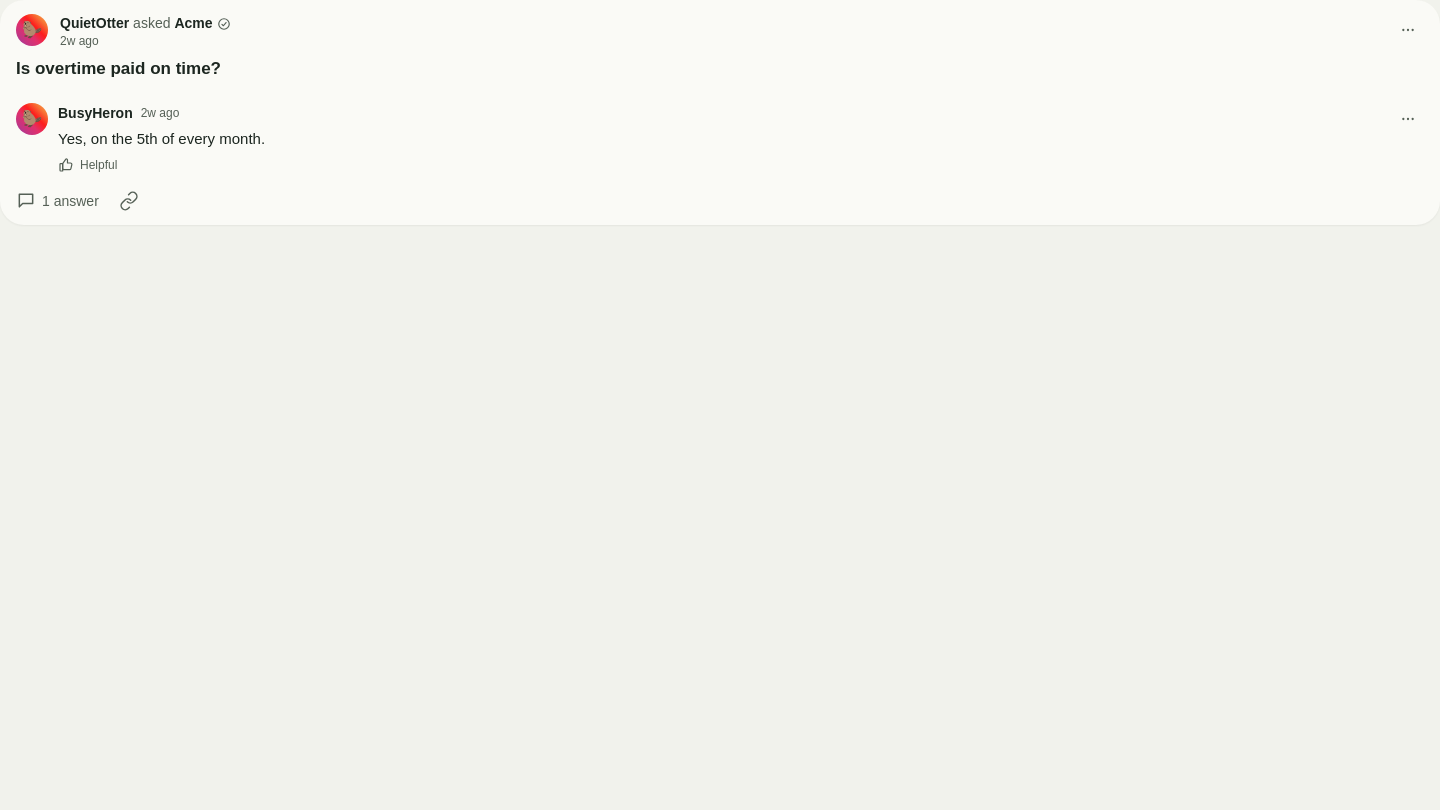
Test: someone else's answer: Report needs a reason, sends it, and reads Reported afterwards
Click the button named "Answer options" at [1408, 119], box [1392,103,1424,135]
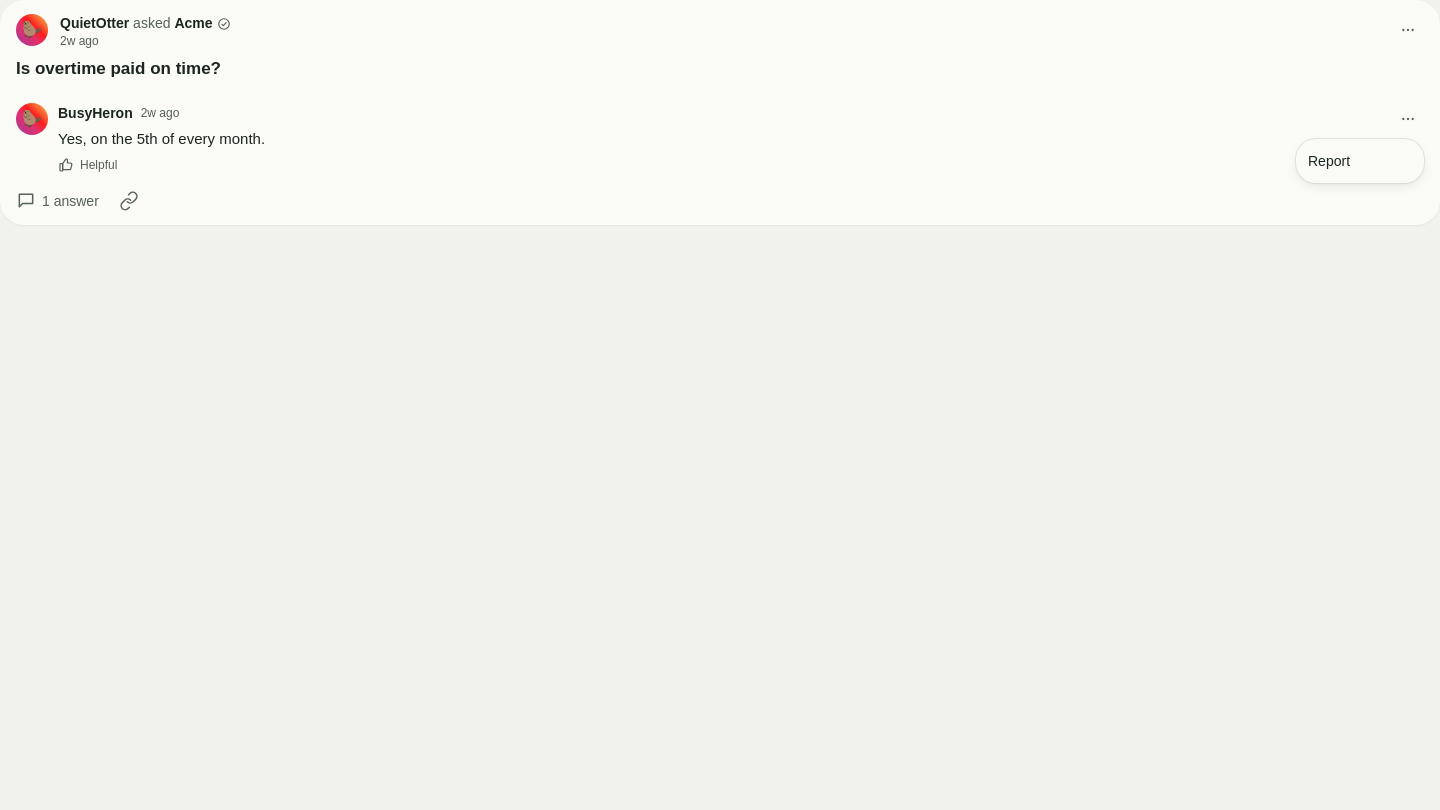
Click the menu item "Report" at [1360, 161], box [1296,143,1424,179]
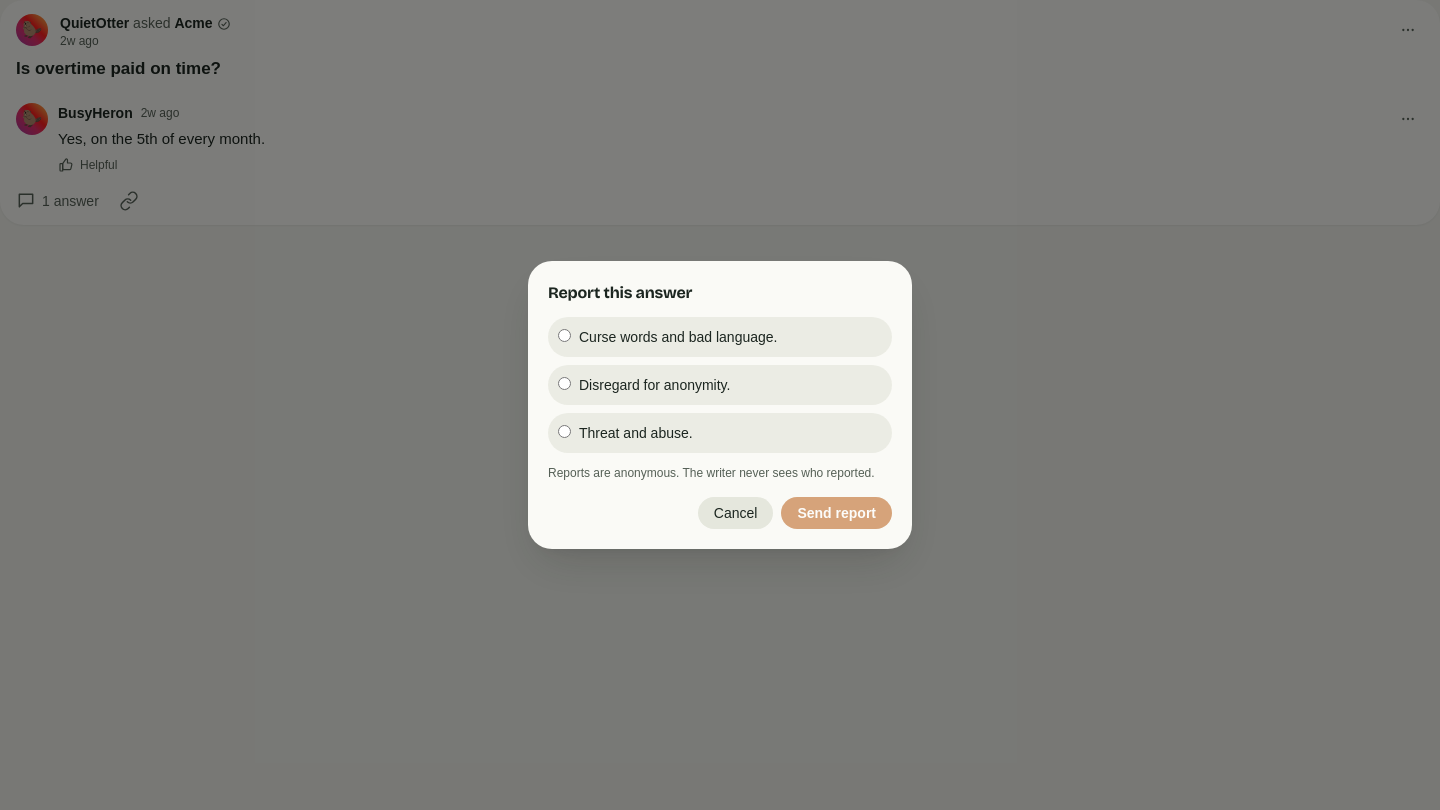
Now the button "Send report" is disabled, box [781,497,892,529]
Click the radio button labelled "Threat and abuse." at [564, 432], box [558,425,571,438]
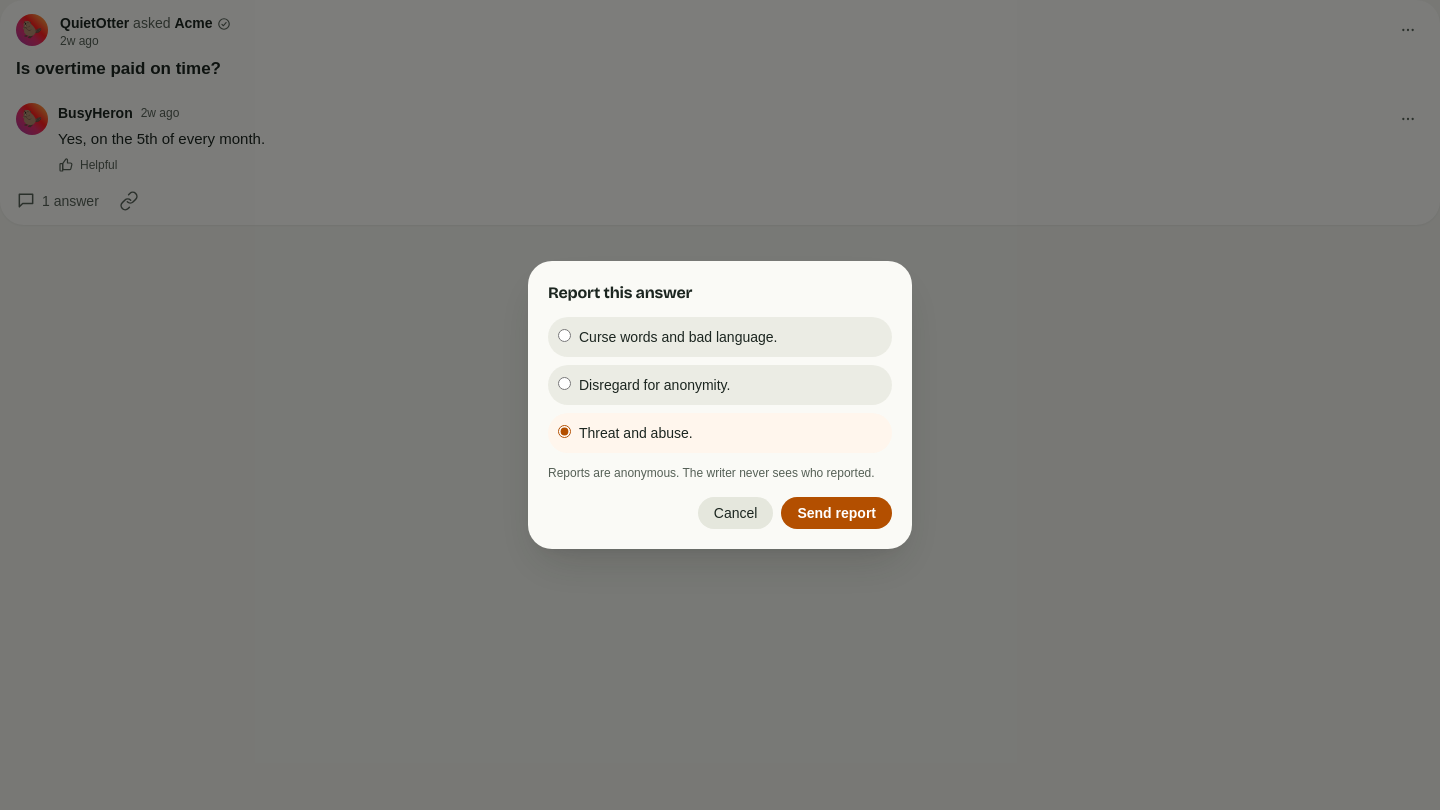
Click the button "Send report" at [837, 513], box [781,497,892,529]
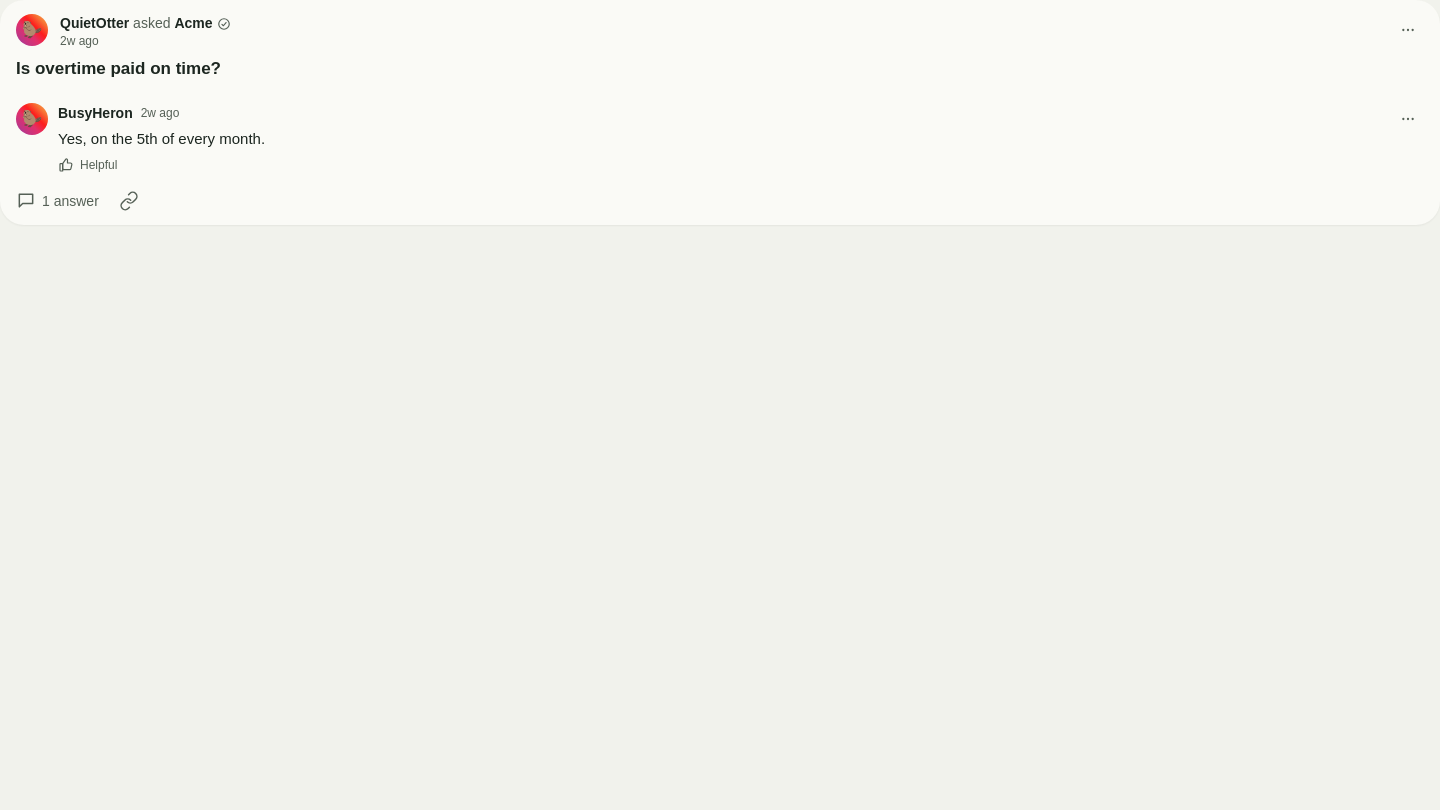
Now the dialog is gone
Click the button named "Answer options" at [1408, 119], box [1392,103,1424,135]
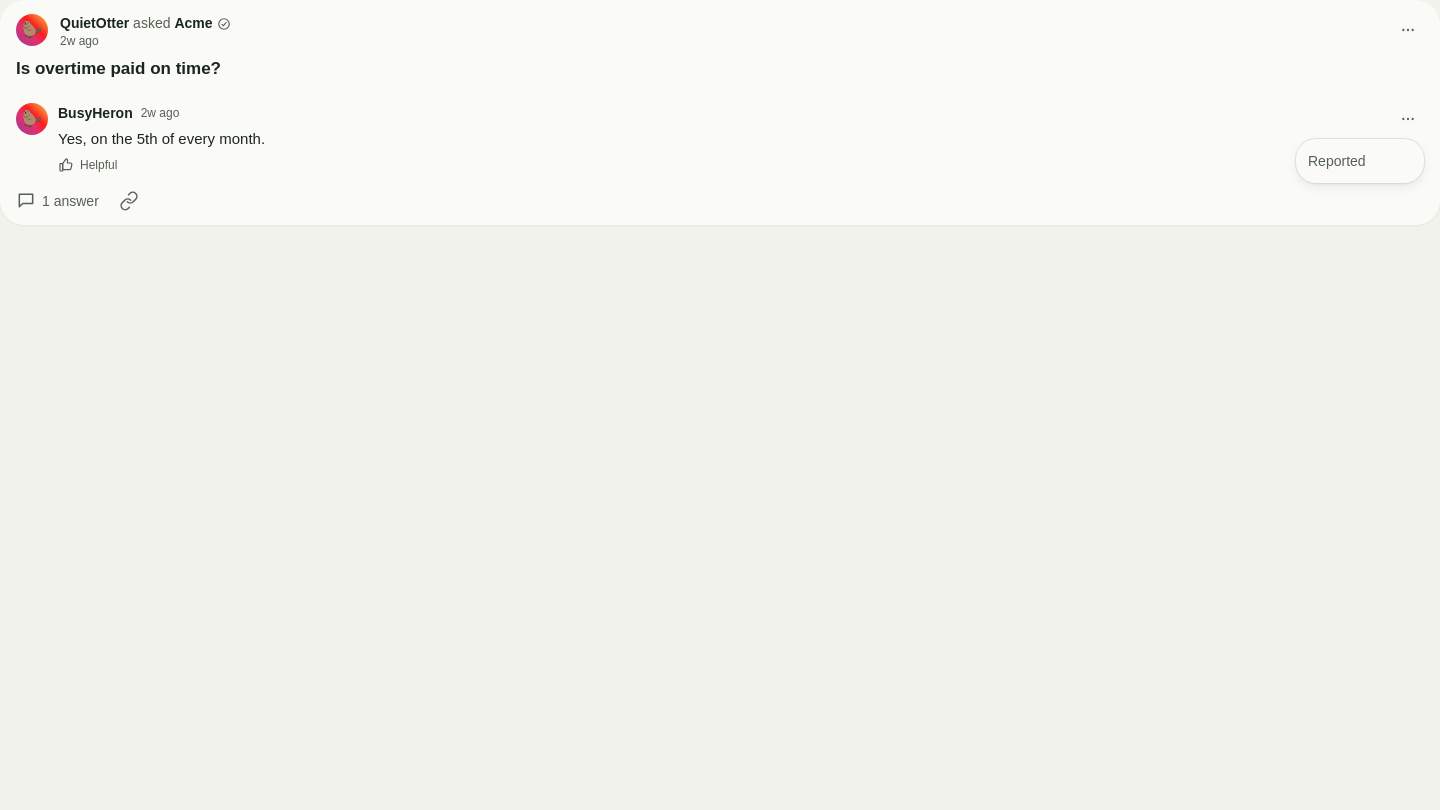
Now the text "Reported" is shown, box [1308,153,1366,169]
